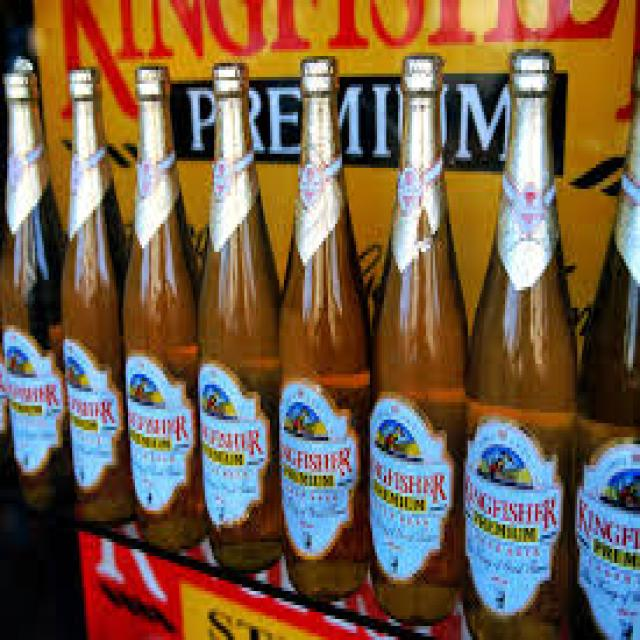glass: (463, 53, 575, 637), (368, 52, 463, 619), (275, 53, 368, 595), (193, 60, 279, 570), (119, 67, 205, 549), (570, 53, 638, 637), (56, 67, 133, 528), (0, 67, 70, 511)
